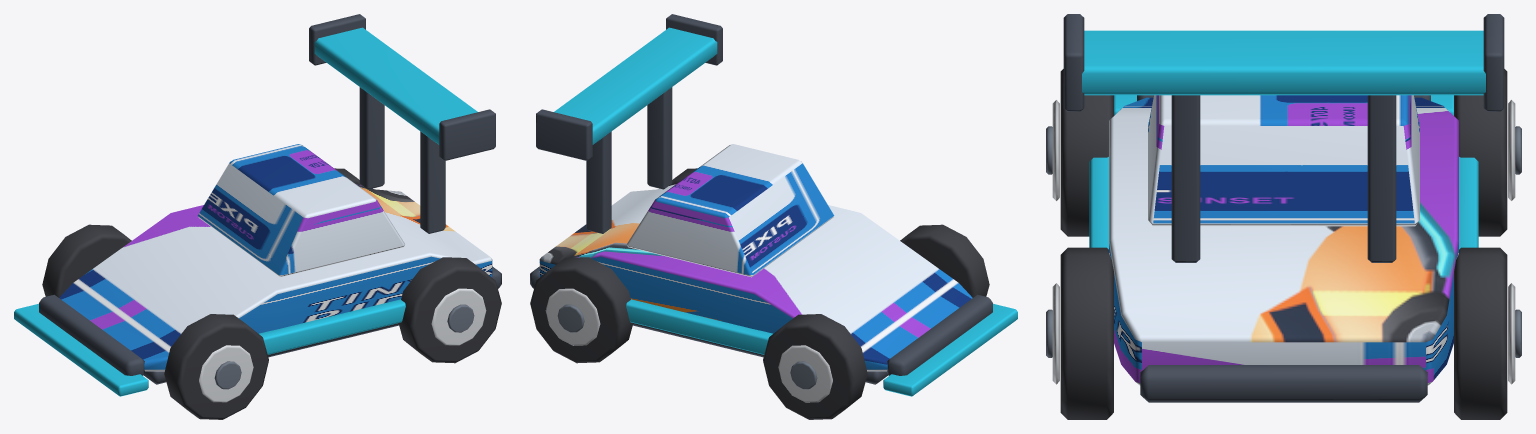
The picture shows the model from 3 angles, left to right: view 1: azimuth 30°, elevation 25°; view 2: azimuth 150°, elevation 25°; view 3: azimuth 270°, elevation 25°; orthographic projection. The views are drawn at different scales.
Visible parts, largest first — view 1: FF-01_connected_shell, FF-01_cabin, rear airfoil, Tire, Tire.002, Tire.001, custom side guard, custom chin, front bumper, wing support.001, wing endplate, wing support (+6 smaller); view 2: FF-01_connected_shell, FF-01_cabin, rear airfoil, Tire.001, Tire.003, Tire, custom side guard.001, custom chin, front bumper, wing support, wing endplate.001, wing support.001 (+6 smaller); view 3: FF-01_connected_shell, FF-01_cabin, rear airfoil, rear bumper, Tire.002, Tire.003, Tire, Tire.001, wing support, wing support.001, wing endplate, wing endplate.001 (+7 smaller).
Part boxes in pixels (x1,y1,x2,y2): FF-01_connected_shell: (59,184,492,371); FF-01_cabin: (197,144,404,277); rear airfoil: (314,27,477,144); Tire: (164,314,268,419); Tire.002: (398,257,501,363); Tire.001: (42,224,131,297); custom side guard: (259,299,405,354); custom chin: (14,303,148,396); front bumper: (39,294,144,375); wing support.001: (359,87,384,189); wing endplate: (439,109,495,160); wing support: (420,131,445,233); FF-01_connected_shell: (539,184,972,371); FF-01_cabin: (627,144,834,277); rear airfoil: (554,27,717,144); Tire.001: (763,314,867,419); Tire.003: (530,257,633,363); Tire: (900,224,989,297); custom side guard.001: (626,299,772,354); custom chin: (883,303,1017,396); front bumper: (887,294,992,375); wing support: (647,87,672,189); wing endplate.001: (536,109,592,160); wing support.001: (586,131,611,233); FF-01_connected_shell: (1109,97,1458,385); FF-01_cabin: (1148,95,1419,226); rear airfoil: (1082,30,1485,95); rear bumper: (1140,365,1427,402); Tire.002: (1060,247,1113,419); Tire.003: (1454,247,1507,419); Tire: (1060,69,1113,236); Tire.001: (1454,69,1507,236); wing support: (1171,95,1200,262); wing support.001: (1367,95,1396,262); wing endplate: (1063,14,1084,111); wing endplate.001: (1483,14,1504,111).
Size of the model in its own units: 356 by 209 by 231.
